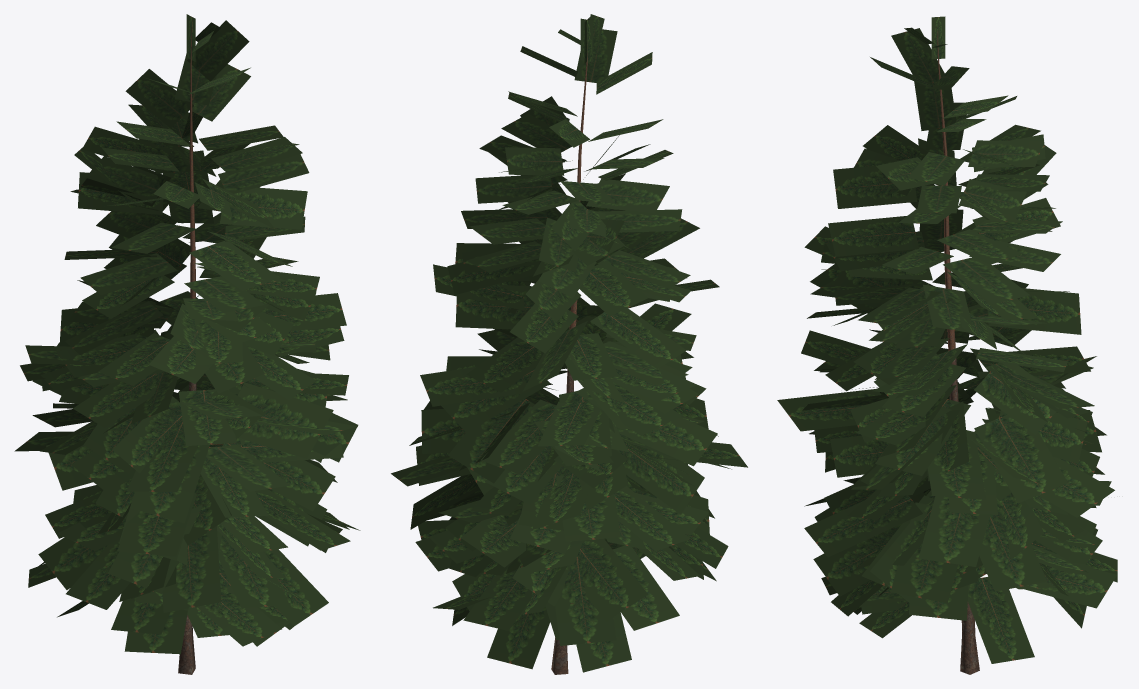
The model's file is spruce_b_LOD2.fbx.
The picture shows the model from 3 angles, left to right: view 1: azimuth 30°, elevation 25°; view 2: azimuth 150°, elevation 25°; view 3: azimuth 270°, elevation 25°; orthographic projection. The views are drawn at different scales.
Visible parts, largest first — view 1: Spruce_B_LOD2_Foliage, Spruce_B_LOD2_Bark; view 2: Spruce_B_LOD2_Foliage, Spruce_B_LOD2_Bark; view 3: Spruce_B_LOD2_Foliage, Spruce_B_LOD2_Bark.
Part boxes in pixels (x1,y1,x2,y2): Spruce_B_LOD2_Foliage: (14, 14, 360, 654); Spruce_B_LOD2_Bark: (178, 20, 196, 674); Spruce_B_LOD2_Foliage: (391, 14, 747, 672); Spruce_B_LOD2_Bark: (551, 53, 587, 674); Spruce_B_LOD2_Foliage: (777, 16, 1117, 663); Spruce_B_LOD2_Bark: (936, 27, 979, 674).
Bounding box in the file's own units: 10.56 × 23.11 × 11.23.
Materials: 2 (2 with a texture image).
